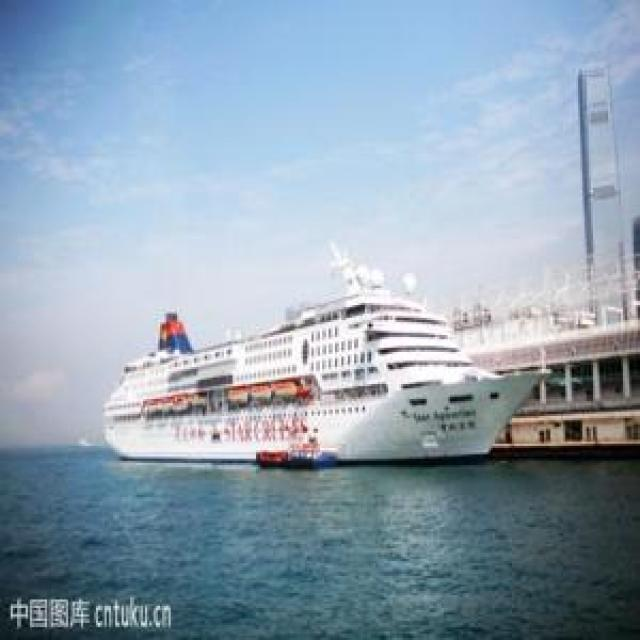passenger ship: (104, 297, 536, 462)
